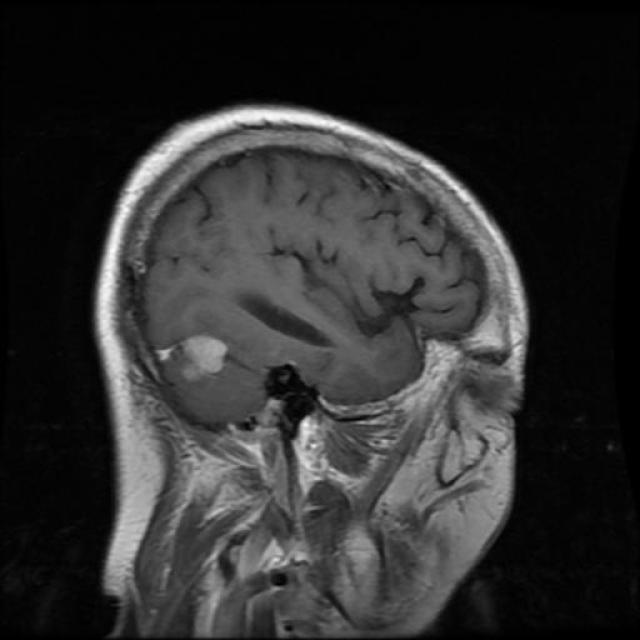meningioma: (158, 336, 229, 382)
